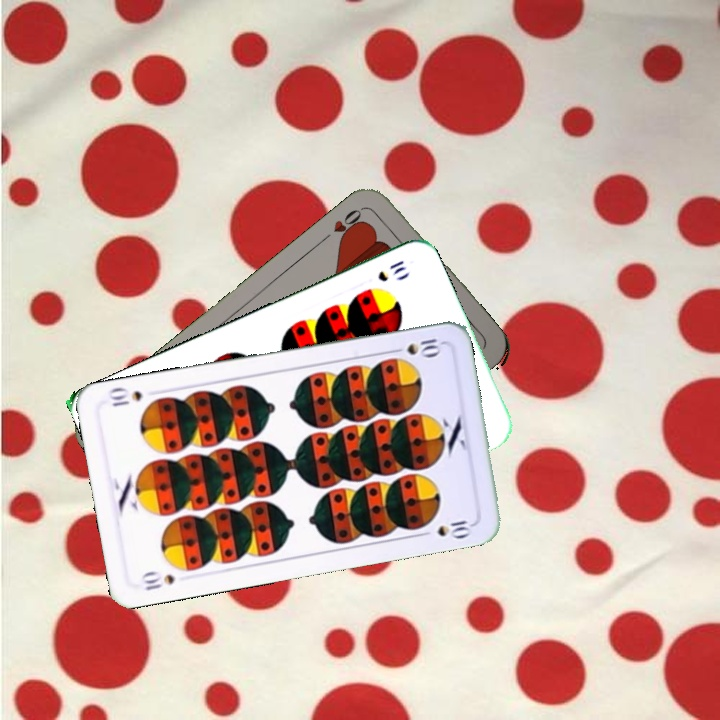HO: (319, 202, 370, 247)
S10: (386, 333, 445, 359), (137, 568, 178, 593), (373, 256, 409, 284)
